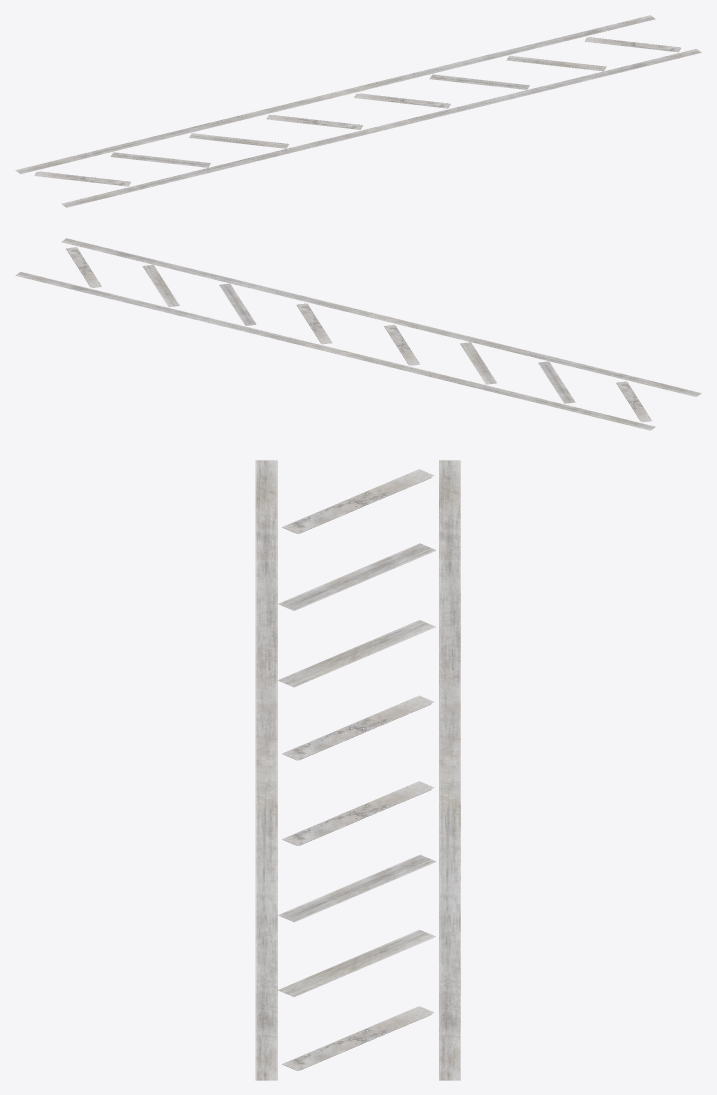
The model's file is MB_Markup_Safety_Line_8m.fbx.
3 views of the same model, one above another, from view 1: azimuth 30°, elevation 25°; view 2: azimuth 150°, elevation 25°; view 3: azimuth 270°, elevation 25° (orthographic). The views are drawn at different scales.
Parts seen in each view (by area): view 1: MB_Markup_Safety_Line_8m; view 2: MB_Markup_Safety_Line_8m; view 3: MB_Markup_Safety_Line_8m.
Boxes of the visible parts, left/top/right/bottom form: MB_Markup_Safety_Line_8m: left=15, top=15, right=701, bottom=207; MB_Markup_Safety_Line_8m: left=15, top=238, right=701, bottom=430; MB_Markup_Safety_Line_8m: left=255, top=460, right=460, bottom=1080.
Size of the model in its own units: 800 by 0.2 by 117.
